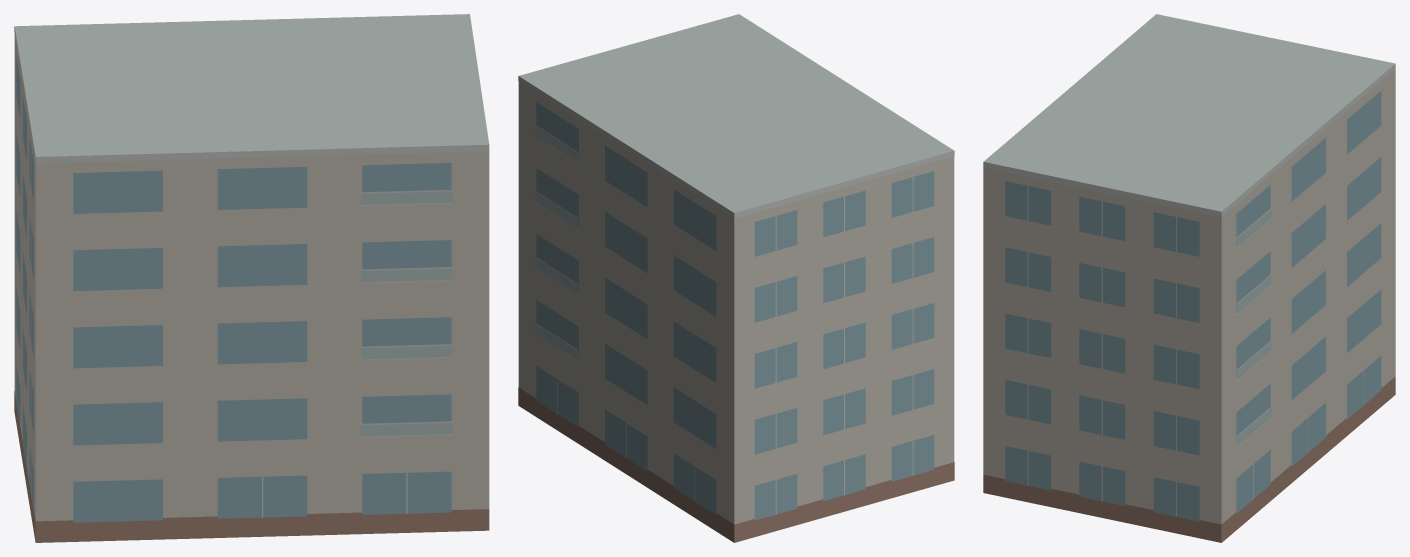
Rendered from survey-upis-32887584.glb.
The picture shows the model from 3 angles, left to right: view 1: azimuth 30°, elevation 25°; view 2: azimuth 150°, elevation 25°; view 3: azimuth 270°, elevation 25°; orthographic projection. The views are drawn at different scales.
Parts seen in each view (by area): view 1: survey-upis-32887584.tmp; view 2: survey-upis-32887584.tmp; view 3: survey-upis-32887584.tmp.
Boxes of the visible parts, box(x1,y1,x2,y2) form: survey-upis-32887584.tmp: box(14, 14, 489, 542); survey-upis-32887584.tmp: box(518, 14, 954, 542); survey-upis-32887584.tmp: box(983, 14, 1395, 542).
Size of the model in its own units: 18.64 by 14.55 by 16.42.
